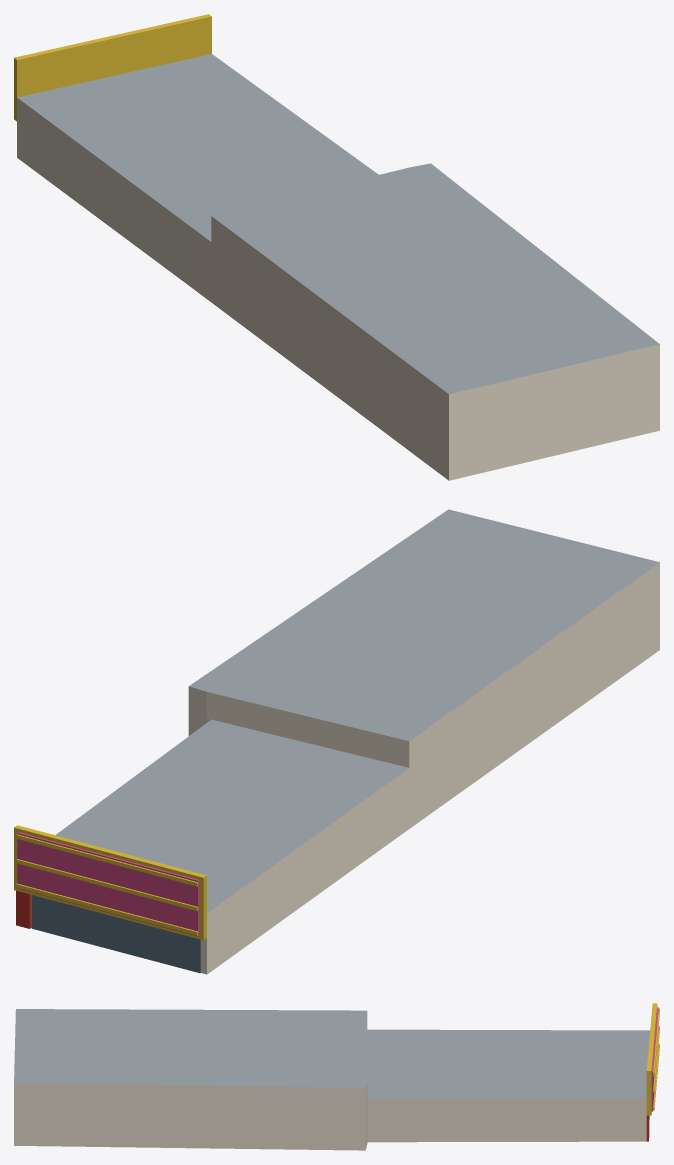
File: nyc-eldorado-auto-skooter.glb
3 views of the same model, one above another, from view 1: azimuth 30°, elevation 25°; view 2: azimuth 150°, elevation 25°; view 3: azimuth 270°, elevation 25° (orthographic). The views are drawn at different scales.
Parts seen in each view (by area): view 1: Eldorado Auto Skooter, Coney Island; view 2: Eldorado Auto Skooter, Coney Island; view 3: Eldorado Auto Skooter, Coney Island.
Part boxes in pixels (box(x1,y1,x2,y2)): Eldorado Auto Skooter, Coney Island: box(14, 14, 659, 480); Eldorado Auto Skooter, Coney Island: box(14, 509, 659, 974); Eldorado Auto Skooter, Coney Island: box(14, 1003, 659, 1150).
Bounding box in the file's own units: 17.81 × 7.45 × 61.63.
